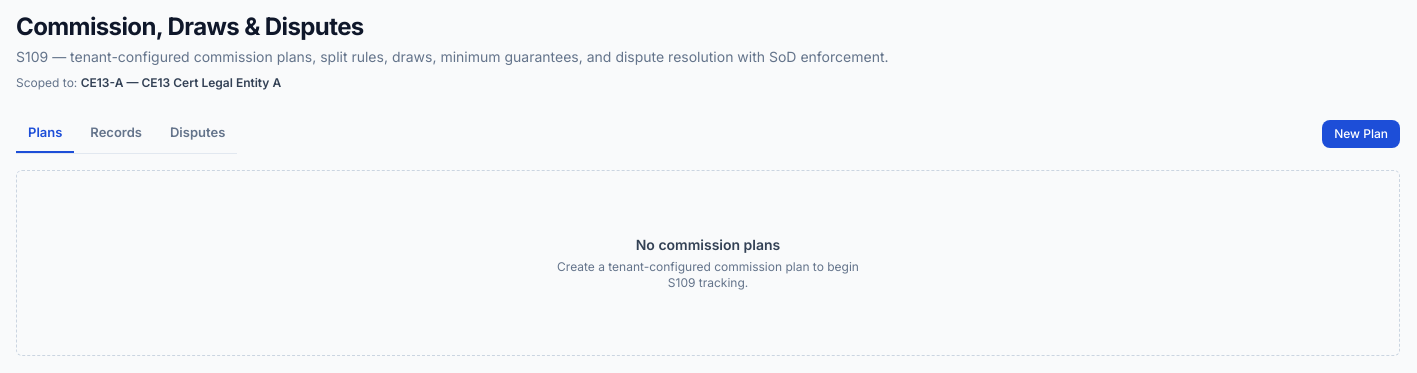
Test: PayrollCommissionWorkbench › shows the empty state for disputes
Click the button with test id "commission-tab-disputes".
click(198, 134)  # box [158,115,237,152]
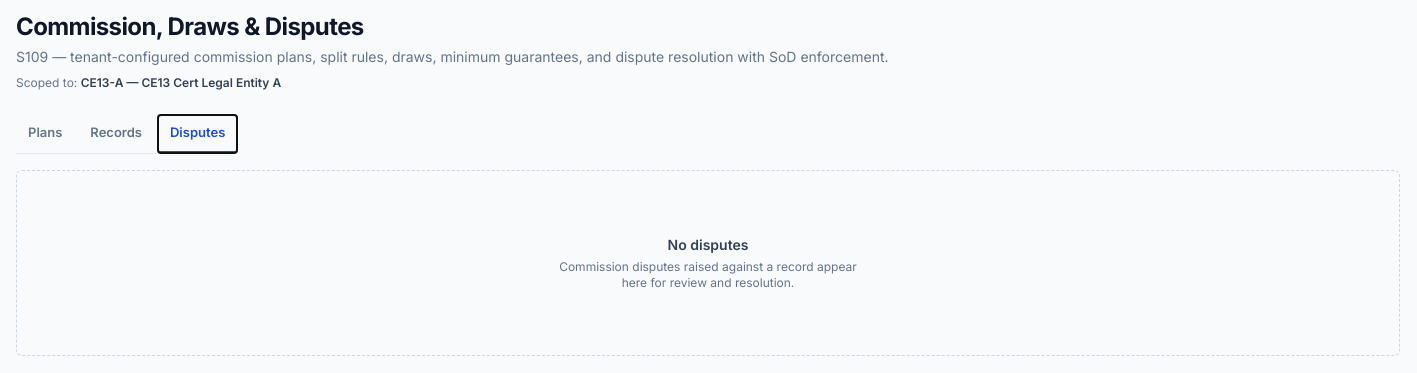
Check: the element with test id "commission-disputes-empty" is shown, box [16,170,1400,356]
